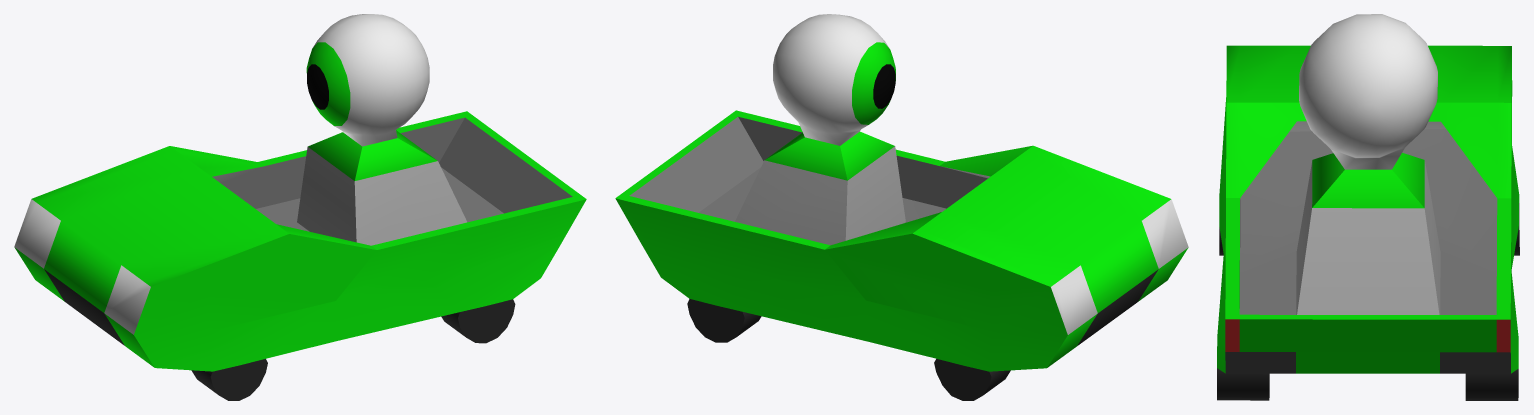
File: WarExplorerGreen.fbx
The picture shows the model from 3 angles, left to right: view 1: azimuth 30°, elevation 25°; view 2: azimuth 150°, elevation 25°; view 3: azimuth 270°, elevation 25°; orthographic projection. The views are drawn at different scales.
Parts seen in each view (by area): view 1: pSphere2; view 2: pSphere2; view 3: pSphere2.
Part boxes in pixels (x1=…): pSphere2: x1=14, y1=14, x2=586, y2=400; pSphere2: x1=615, y1=14, x2=1188, y2=400; pSphere2: x1=1217, y1=14, x2=1519, y2=400.
Bounding box in the file's own units: 4.31 × 2.64 × 2.1.
